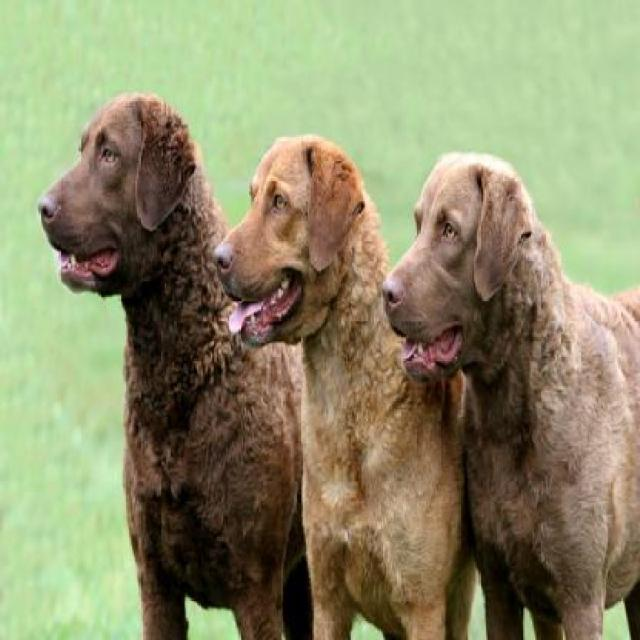animals: (387, 123, 640, 640), (208, 101, 435, 584), (36, 72, 233, 571)
